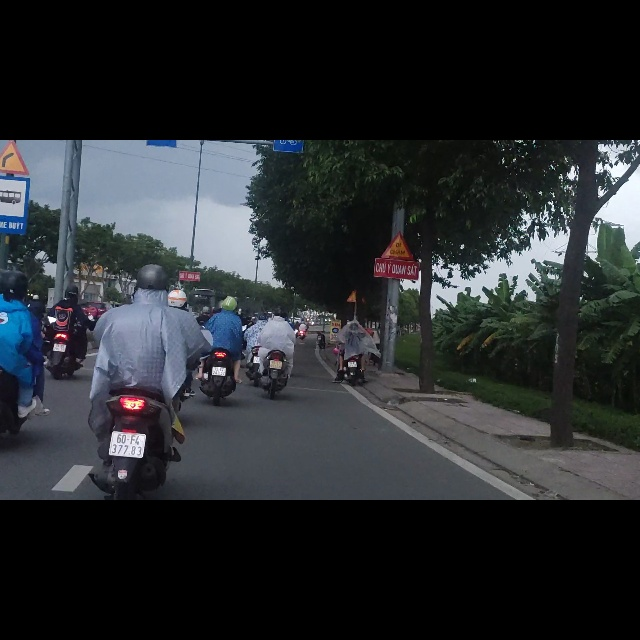bien_nguy_hiem: (380, 161, 413, 214)
